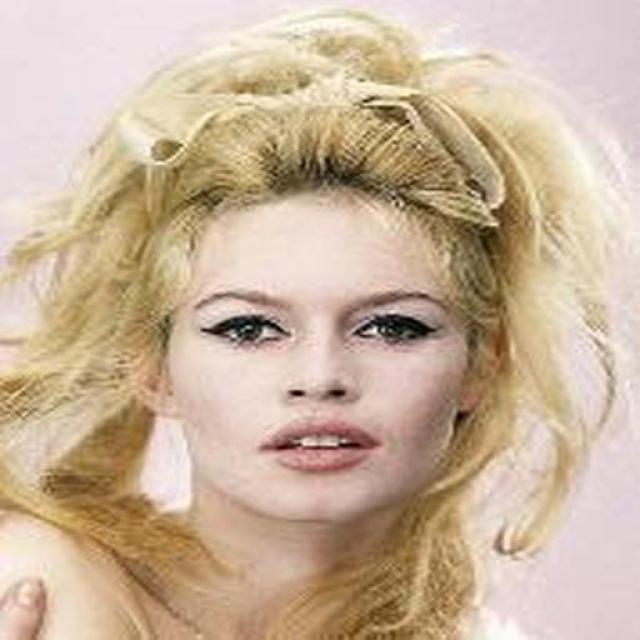bareface: (131, 175, 498, 528)
